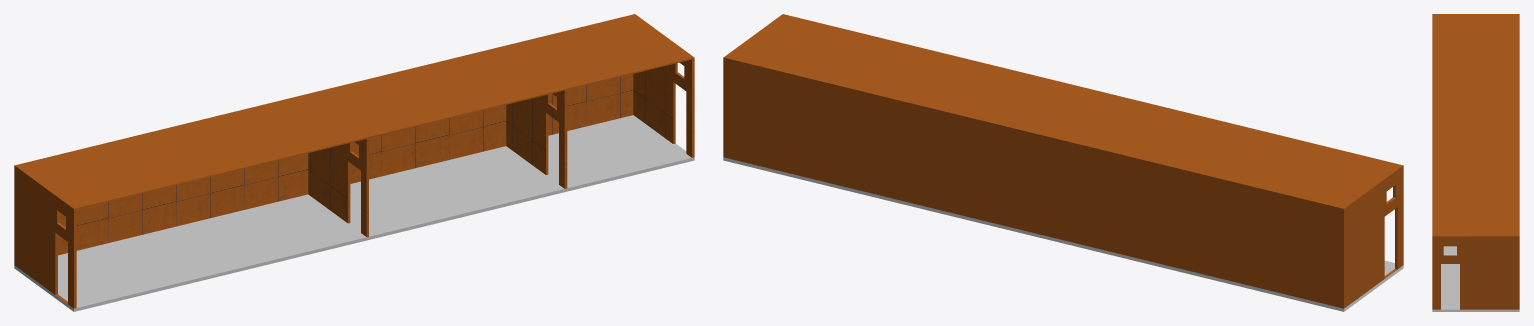
Rendered from sala 3 Uv certa.fbx.
3 renders of one model, left to right at view 1: azimuth 30°, elevation 25°; view 2: azimuth 150°, elevation 25°; view 3: azimuth 270°, elevation 25°, orthographic. The views are drawn at different scales.
Visible parts, largest first — view 1: polySurface1619, polySurface1618; view 2: polySurface1619, polySurface1618; view 3: polySurface1619, polySurface1618.
Boxes of the visible parts, x1,y1,x2,y2 form: polySurface1619: (14,14,694,308); polySurface1618: (14,115,694,311); polySurface1619: (723,14,1403,308); polySurface1618: (723,157,1403,311); polySurface1619: (1432,14,1519,309); polySurface1618: (1432,246,1519,311).
Bounding box in the file's own units: 84.21 × 13.36 × 13.98.
